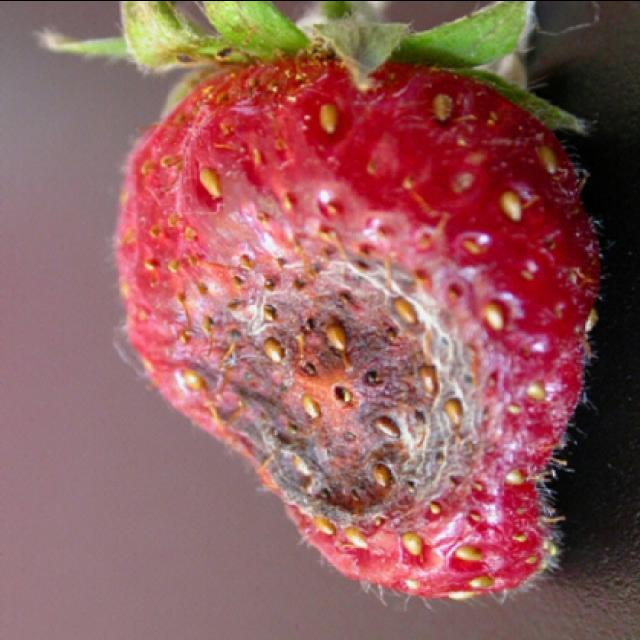Anthracnose Fruit Rot: (170, 172, 502, 556)
